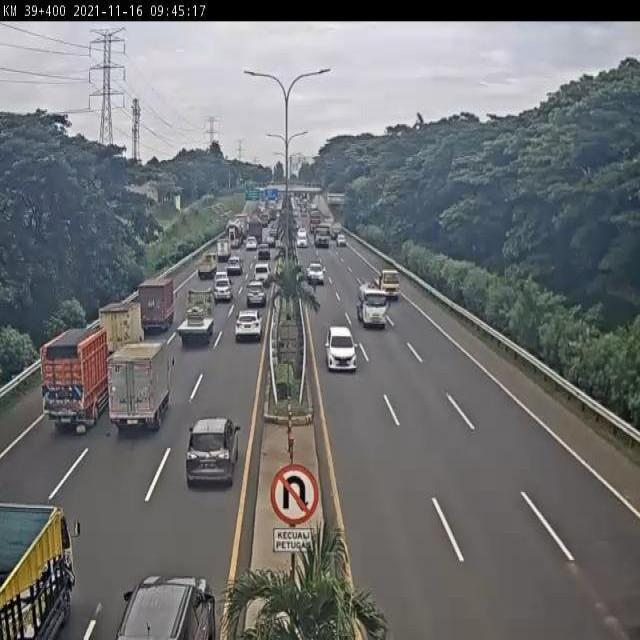car: (183, 422, 237, 494), (327, 325, 358, 372), (234, 314, 262, 346), (243, 288, 266, 319), (212, 277, 232, 303), (226, 257, 245, 280), (306, 261, 324, 284)
small bus: (251, 267, 270, 292)
small truck: (108, 343, 172, 432), (99, 303, 144, 361), (356, 282, 386, 326), (376, 268, 400, 300), (197, 251, 219, 277)
truck-m-: (40, 325, 108, 428), (136, 278, 175, 334), (178, 286, 216, 342)
